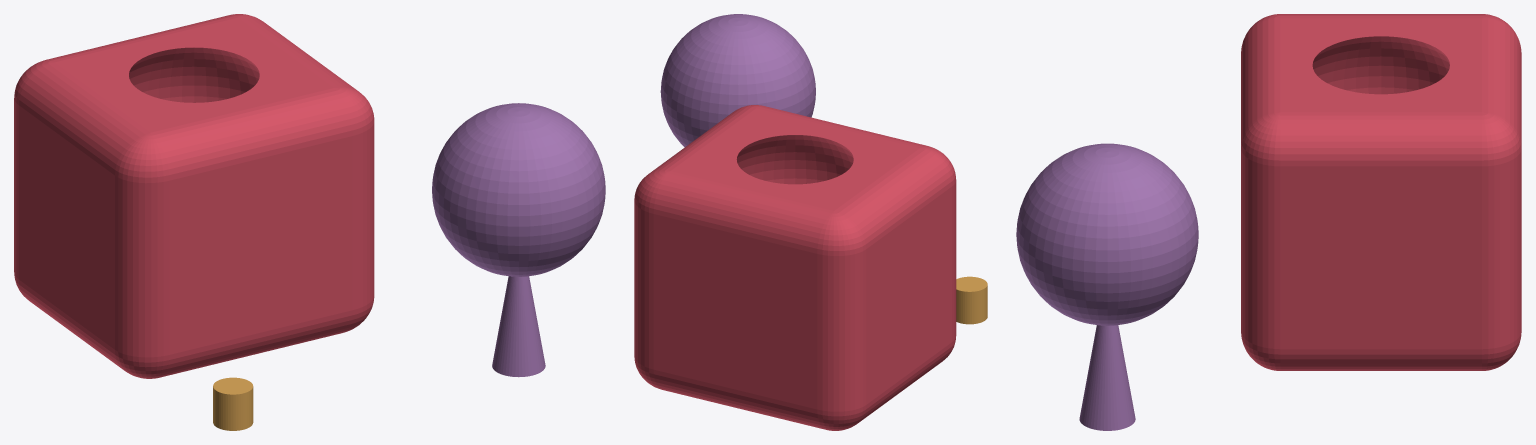
Rendered from Shane's Project.glb.
3 renders of one model, left to right at view 1: azimuth 30°, elevation 25°; view 2: azimuth 150°, elevation 25°; view 3: azimuth 270°, elevation 25°, orthographic. The views are drawn at different scales.
Parts seen in each view (by area): view 1: Mesh_Mesh_head_geo.001_lambert2SG.001; view 2: Mesh_Mesh_head_geo.001_lambert2SG.001; view 3: Mesh_Mesh_head_geo.001_lambert2SG.001.
Boxes of the visible parts, bbox=[...] form: Mesh_Mesh_head_geo.001_lambert2SG.001: bbox=[14, 14, 605, 430]; Mesh_Mesh_head_geo.001_lambert2SG.001: bbox=[634, 14, 987, 430]; Mesh_Mesh_head_geo.001_lambert2SG.001: bbox=[1016, 14, 1521, 430].
Bounding box in the file's own units: 0.0685 × 0.042 × 0.072.
